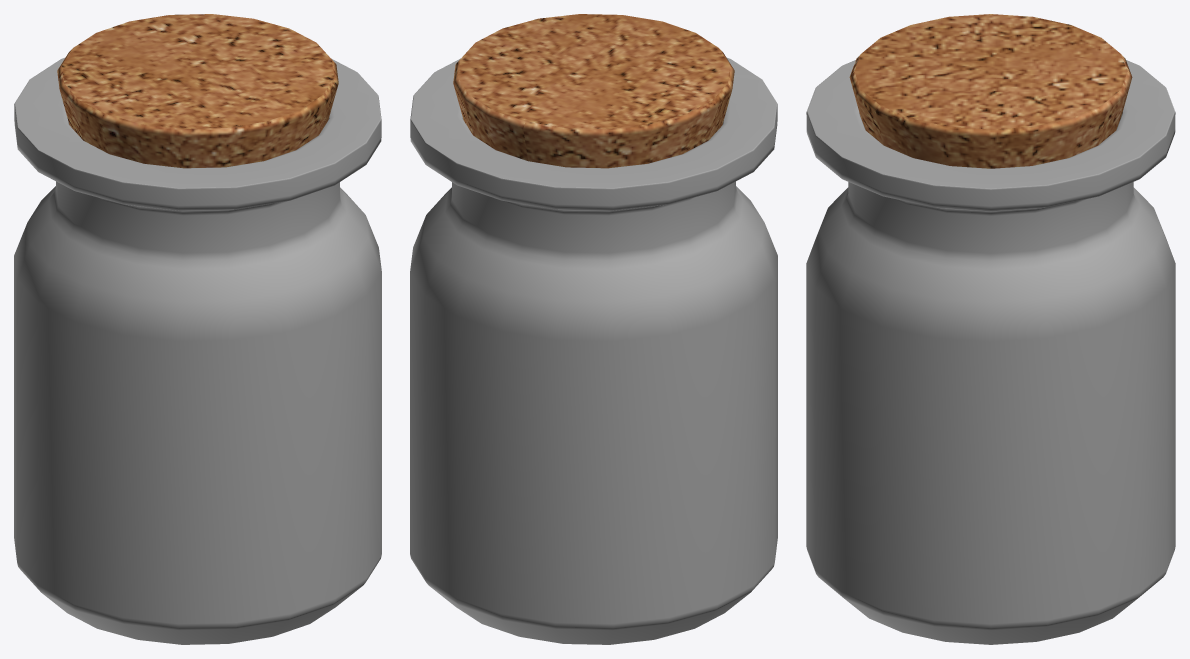
The model's file is FIreFLyJar.fbx.
The picture shows the model from 3 angles, left to right: view 1: azimuth 30°, elevation 25°; view 2: azimuth 150°, elevation 25°; view 3: azimuth 270°, elevation 25°; orthographic projection.
Visible parts, largest first — view 1: pCylinder1, pCylinder2; view 2: pCylinder1, pCylinder2; view 3: pCylinder1, pCylinder2.
Boxes of the visible parts, box(x1,y1,x2,y2) form: pCylinder1: box(14, 58, 381, 644); pCylinder2: box(57, 14, 338, 168); pCylinder1: box(410, 58, 777, 644); pCylinder2: box(453, 14, 734, 168); pCylinder1: box(806, 60, 1175, 644); pCylinder2: box(849, 14, 1132, 168).
Size of the model in its own units: 141 by 215 by 141.
Materials: 2 (1 with a texture image).
